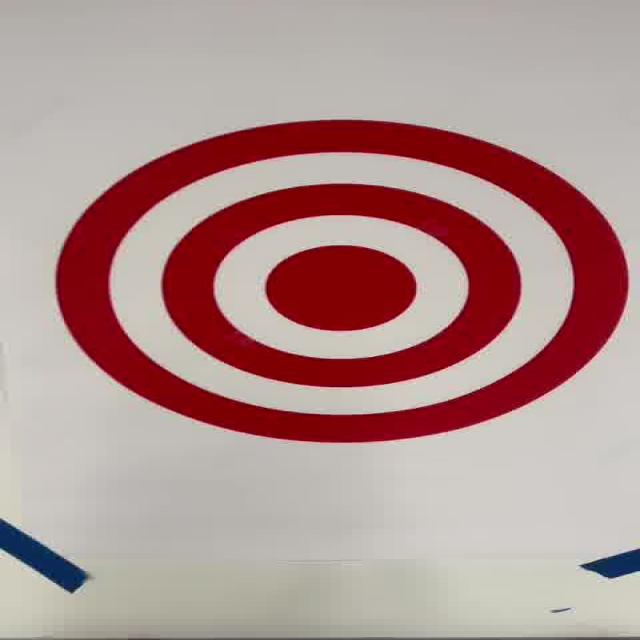target_red: (52, 117, 630, 444)
